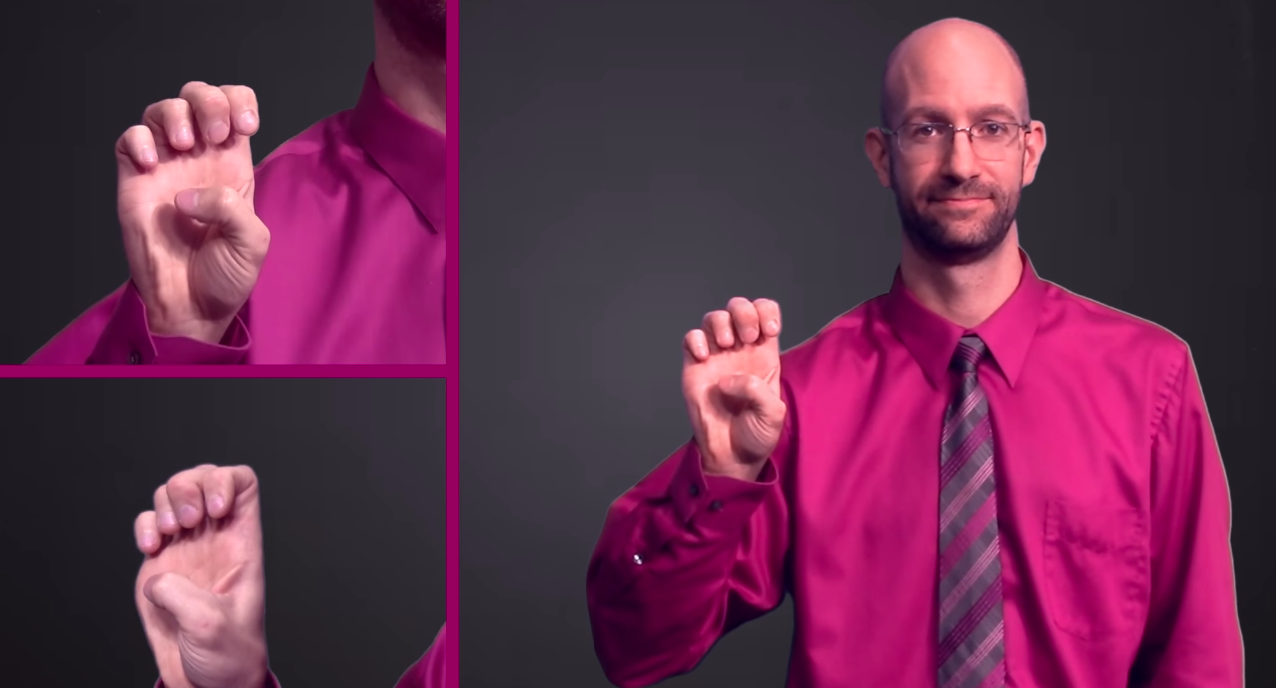e: (95, 64, 291, 344), (119, 452, 289, 687), (669, 289, 803, 479)
